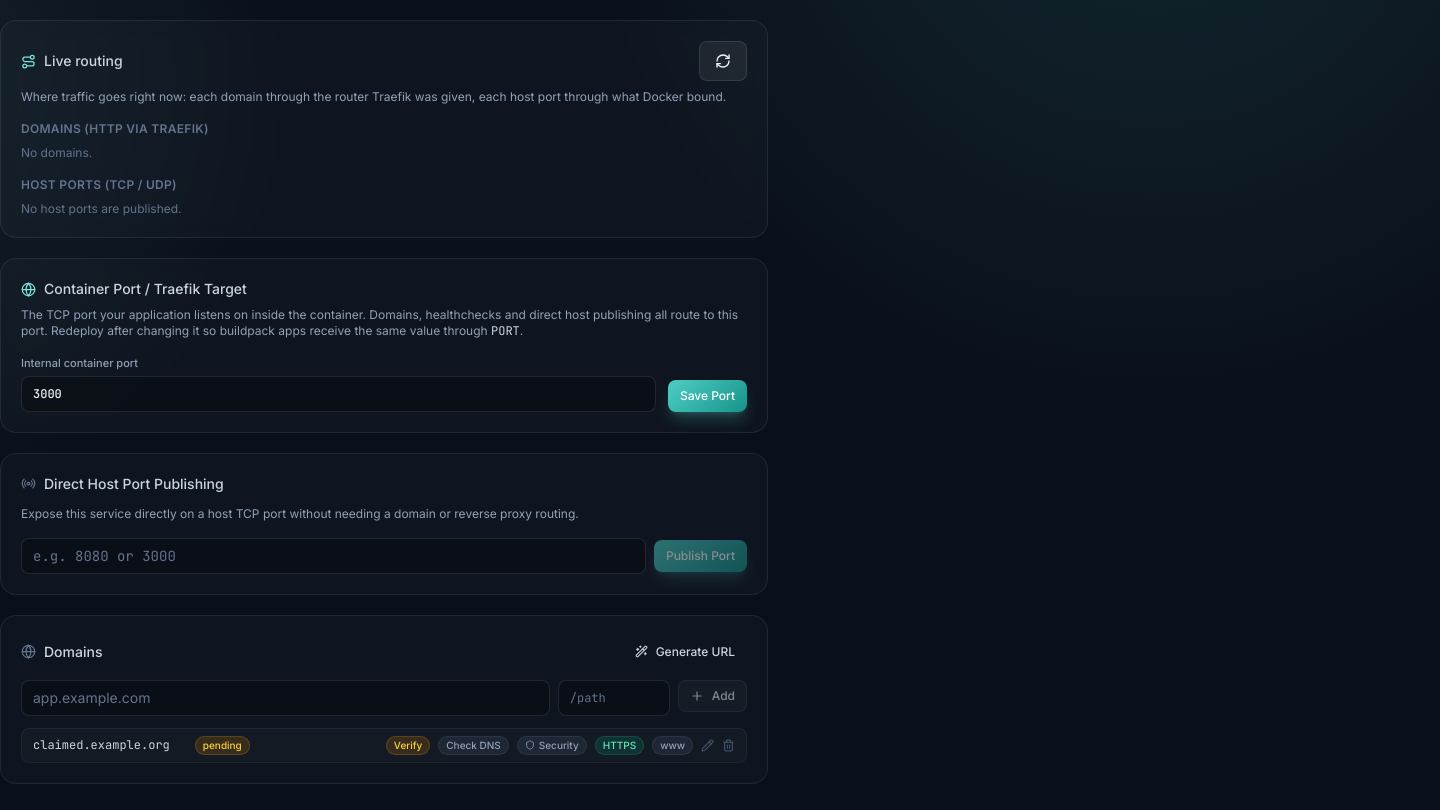
NetworkTab domain ownership (r345) › surfaces a refused verification
The width and height of the screenshot is (1440, 810).
Click the button "Verify" at (408, 745), box [386, 736, 430, 754]
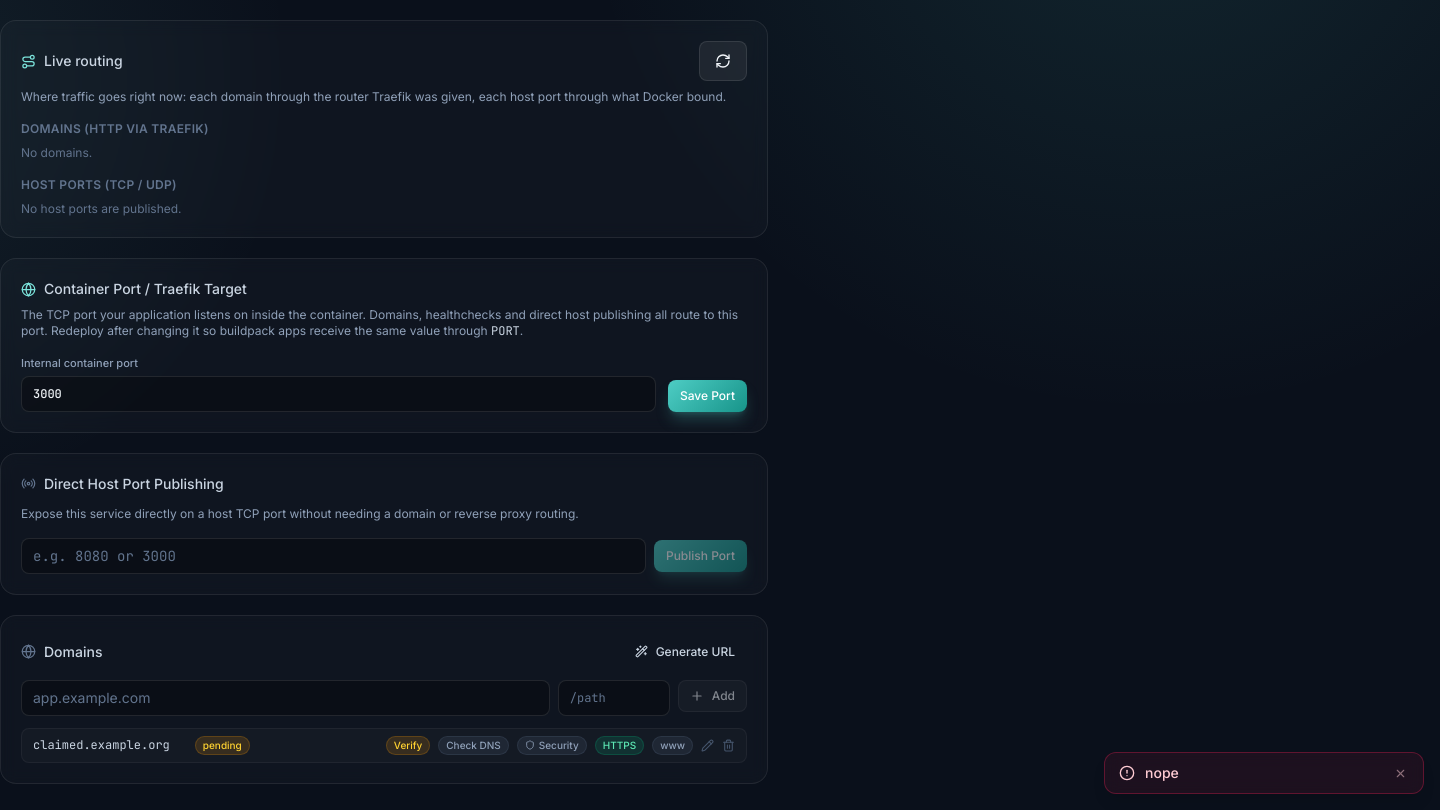
Now the text "nope" is shown, box [1145, 764, 1179, 781]
